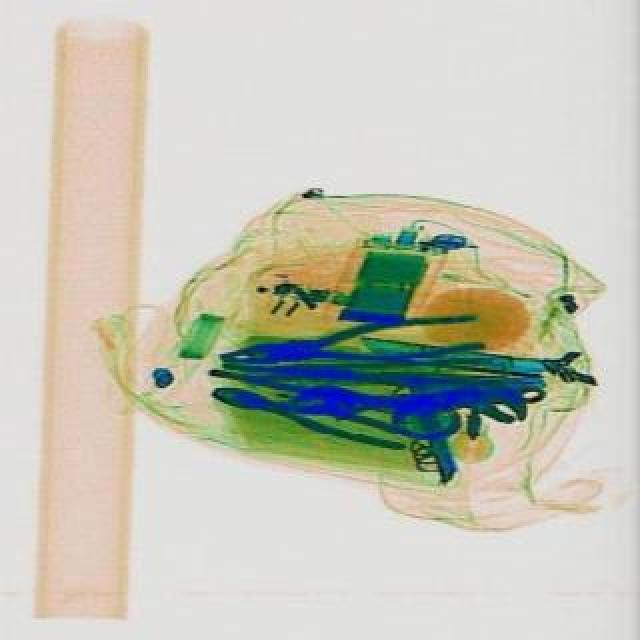wrench: (222, 312, 488, 376), (210, 374, 416, 454)
